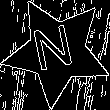N_S: (32, 22, 81, 80)
